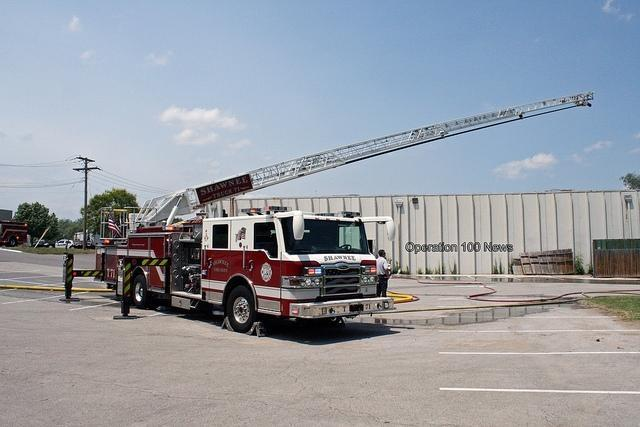car: (44, 239, 76, 248), (74, 242, 84, 248)
truck: (91, 206, 398, 331)
